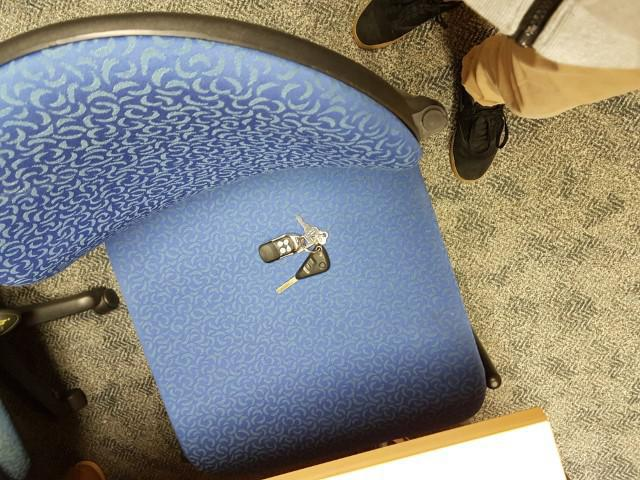key: (277, 246, 330, 295)
